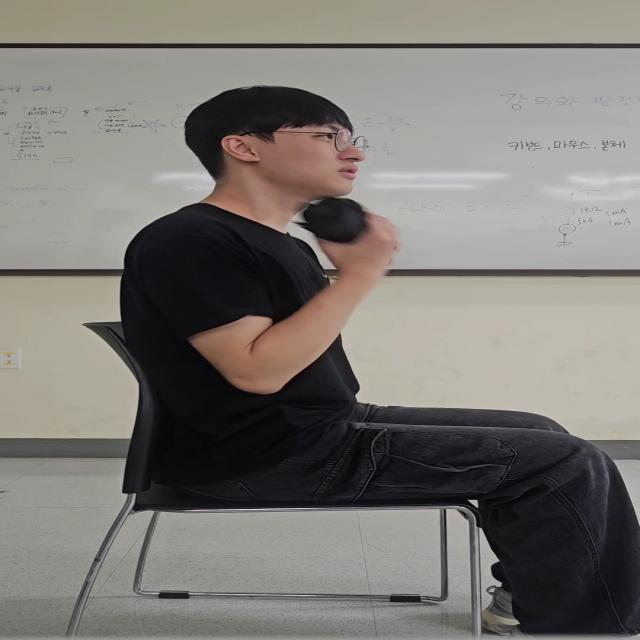curl: (158, 194, 414, 412)
